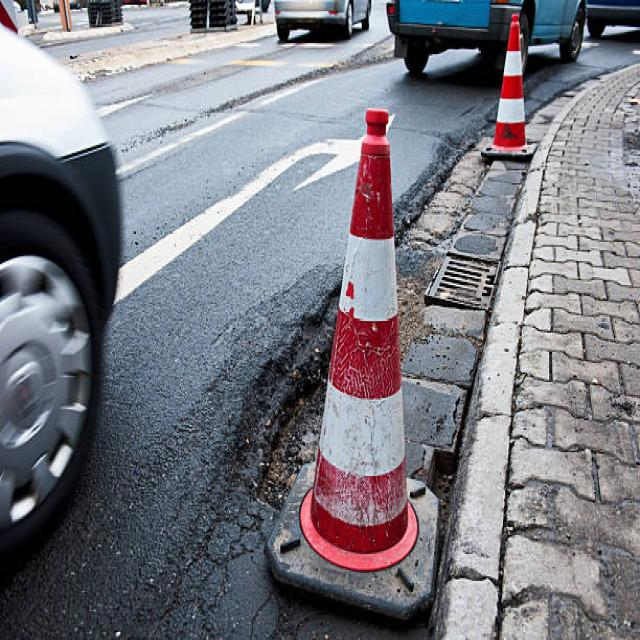Traffic Cone: (250, 65, 462, 621), (470, 5, 553, 168)
